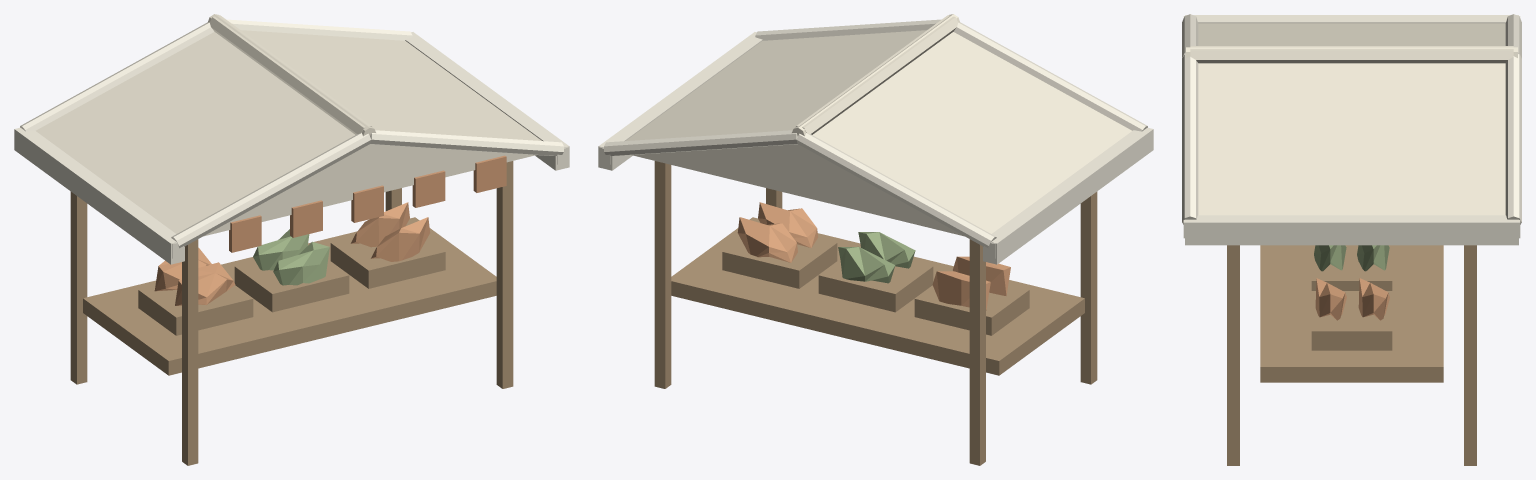
3 renders of one model, left to right at view 1: azimuth 30°, elevation 25°; view 2: azimuth 150°, elevation 25°; view 3: azimuth 270°, elevation 25°, orthographic. The views are drawn at different scales.
Size of the model in its own units: 4.56 by 3.41 by 3.15.
